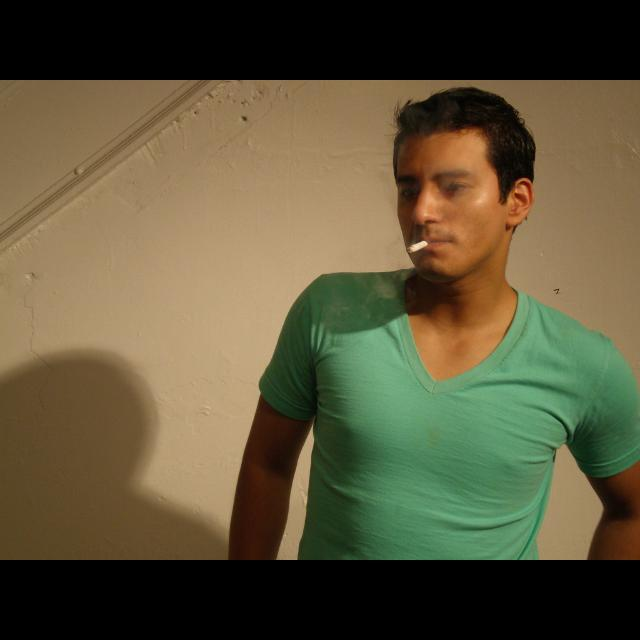rokok: (405, 236, 431, 254)
